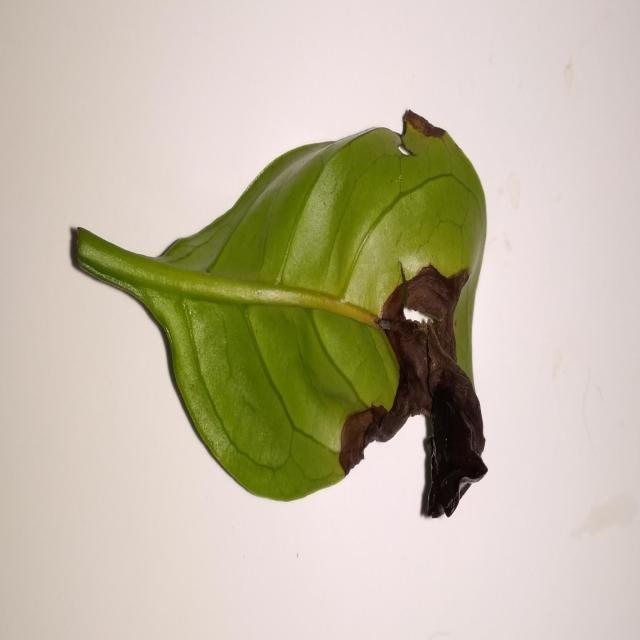Enfermedad-Antracnosis: (67, 111, 489, 521)
